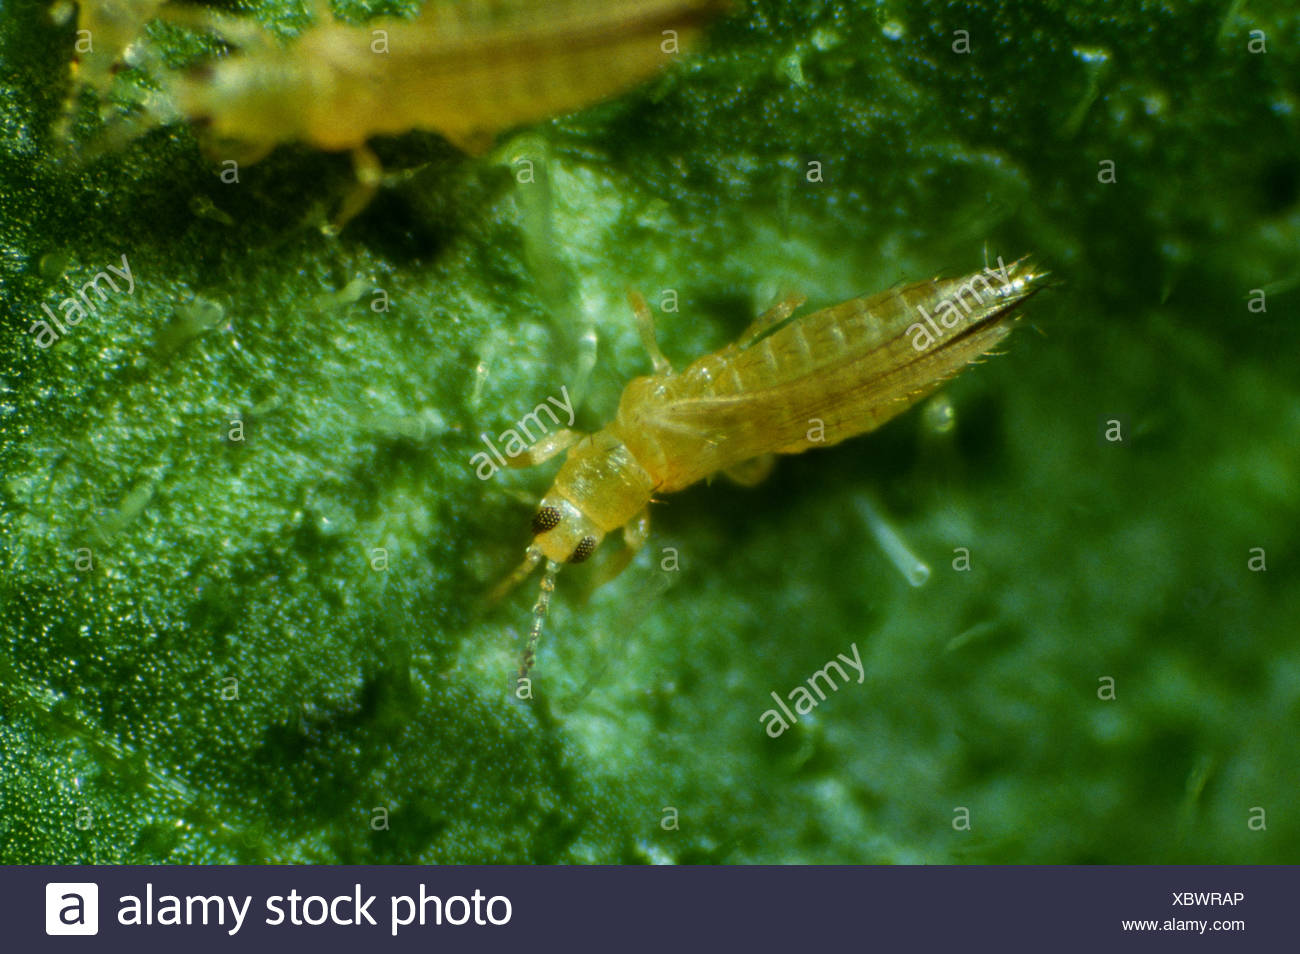Thrips: (488, 265, 1050, 598)
